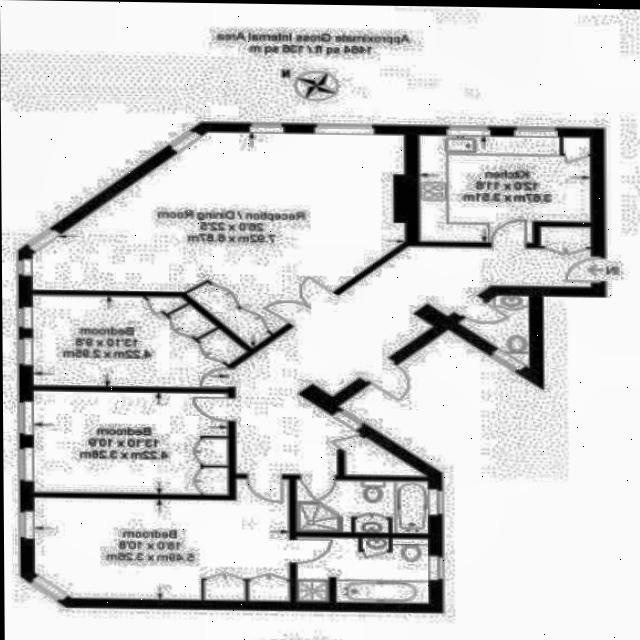room: (18, 42, 453, 431), (186, 158, 608, 520), (34, 478, 291, 601), (32, 392, 229, 494), (32, 295, 245, 388), (417, 135, 591, 244), (463, 275, 561, 368), (296, 536, 430, 603), (296, 480, 428, 532), (345, 437, 427, 476), (540, 226, 590, 247)
